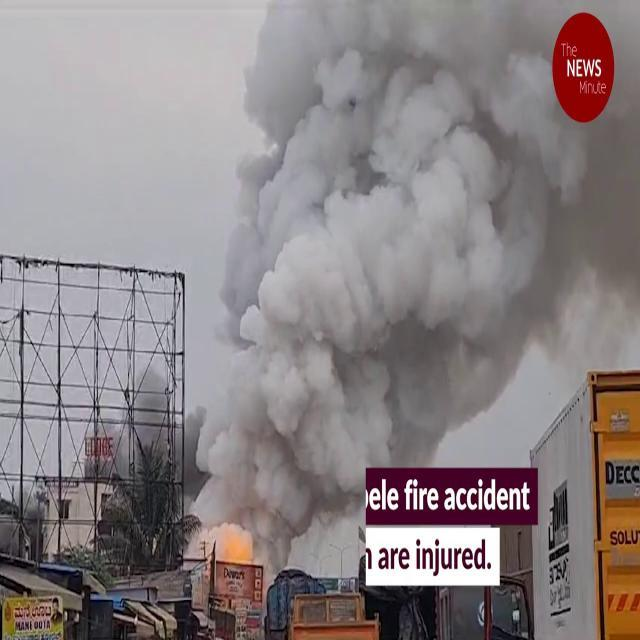Smoke: (184, 0, 639, 533)
